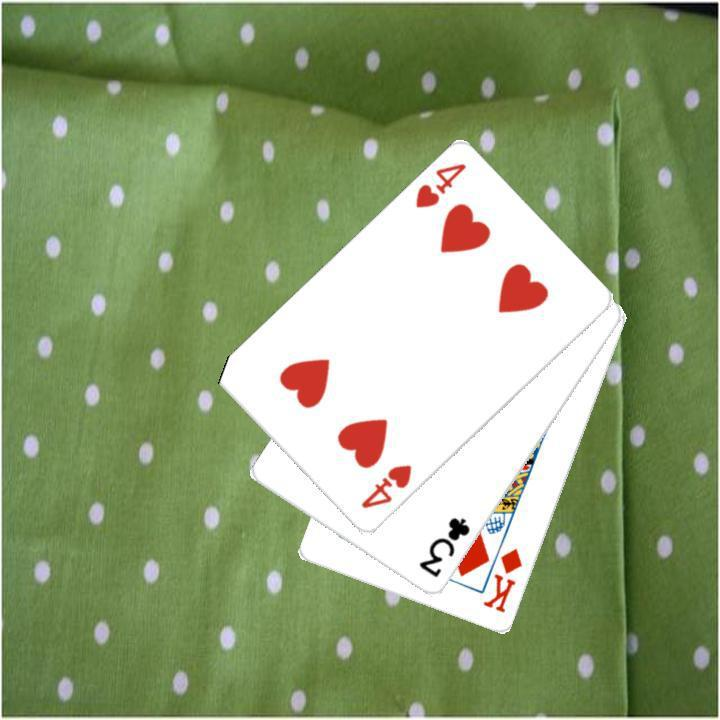3: (414, 513, 473, 581)
4: (356, 460, 414, 512), (411, 159, 468, 211)
K: (479, 544, 525, 615)
